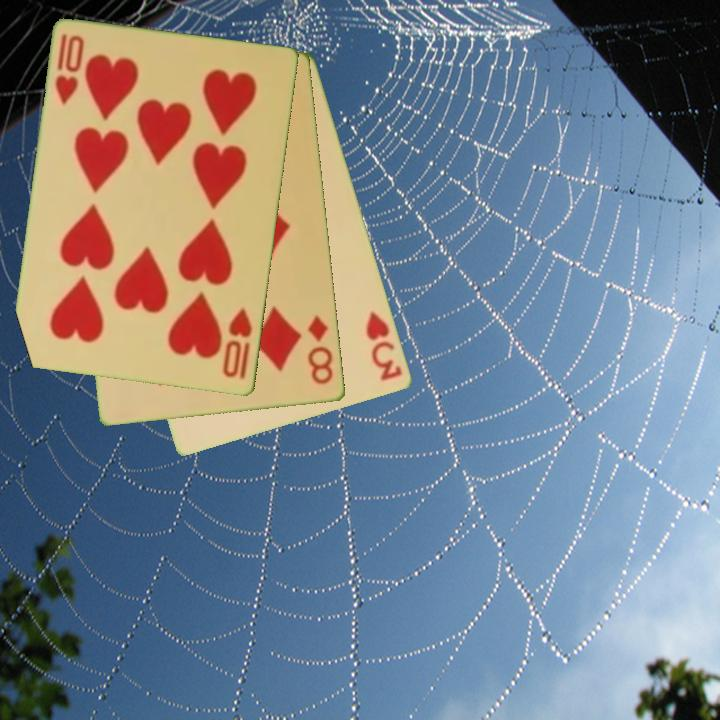10h: (52, 30, 88, 109), (219, 305, 255, 381)
3h: (362, 307, 406, 384)
8d: (305, 312, 336, 388)
